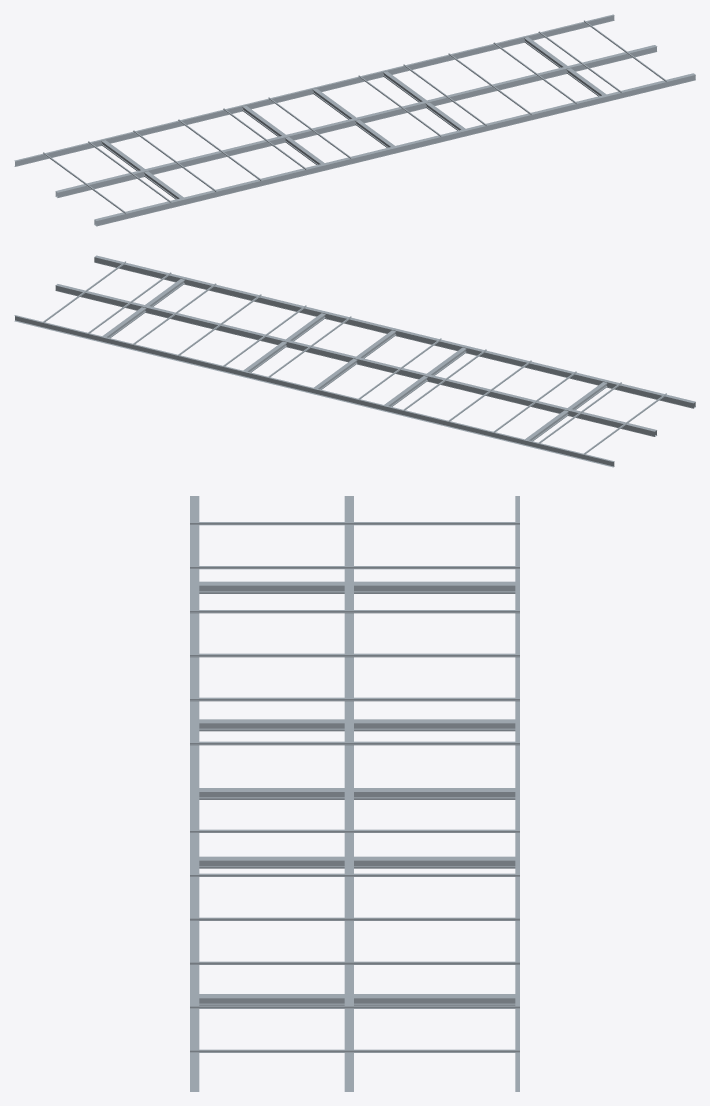
The model's file is SM06_Building_Structure_Roof_Flat_01_Corner.fbx.
3 renders of one model, top to bottom at view 1: azimuth 30°, elevation 25°; view 2: azimuth 150°, elevation 25°; view 3: azimuth 270°, elevation 25°, orthographic. The views are drawn at different scales.
Visible parts, largest first — view 1: SM06_Building_Structure_Roof_Flat_01_Corner; view 2: SM06_Building_Structure_Roof_Flat_01_Corner; view 3: SM06_Building_Structure_Roof_Flat_01_Corner.
Part boxes in pixels (bbox=[...]): SM06_Building_Structure_Roof_Flat_01_Corner: bbox=[14, 14, 695, 226]; SM06_Building_Structure_Roof_Flat_01_Corner: bbox=[14, 255, 695, 467]; SM06_Building_Structure_Roof_Flat_01_Corner: bbox=[190, 496, 519, 1091].
Size of the model in its own units: 58.84 by 0.6139 by 14.03.
